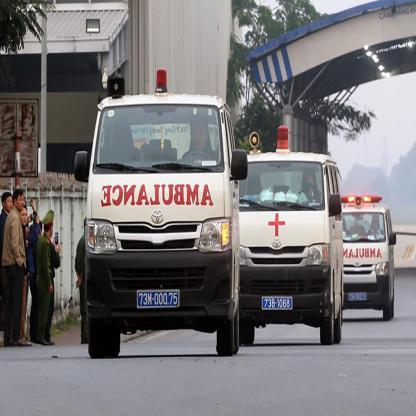Ambulance - v1 Ambulance last generate: (84, 91, 241, 353), (230, 145, 346, 343), (330, 196, 396, 317)
